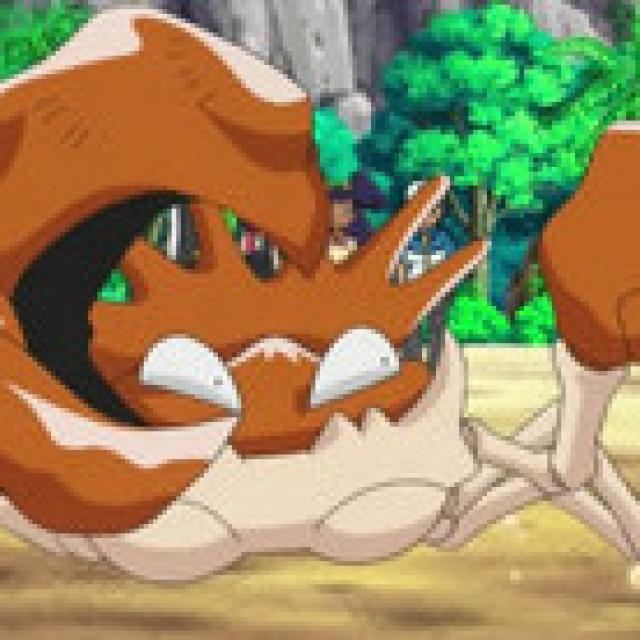Kingler: (1, 122, 636, 593)
